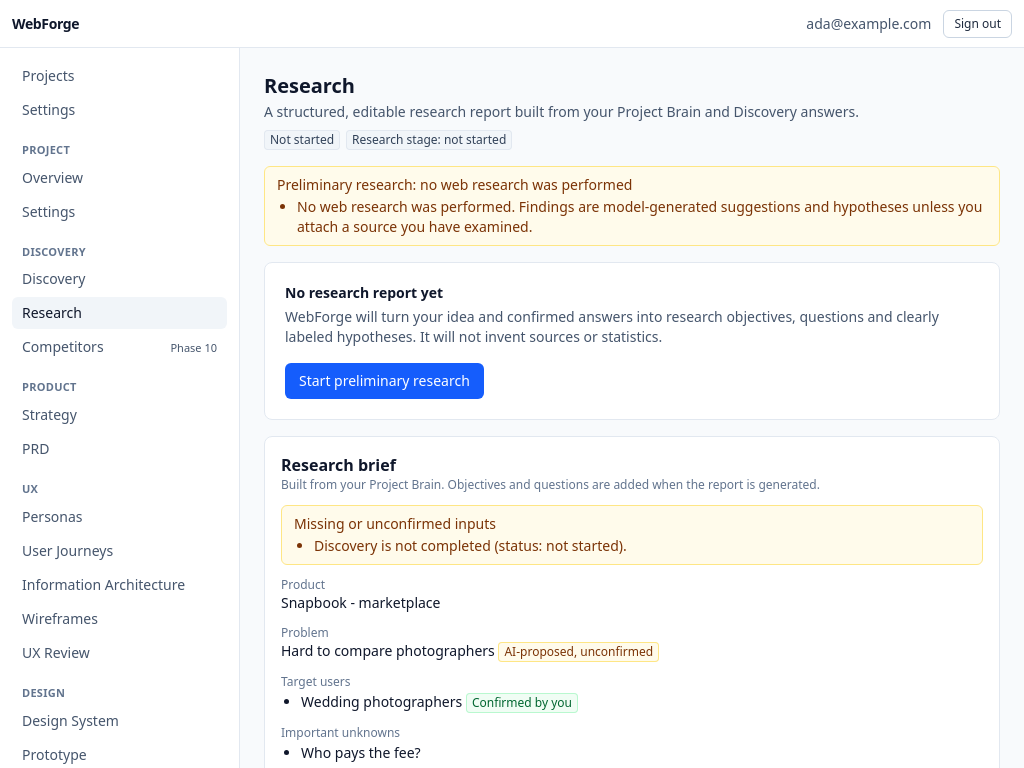
Scenario: empty and failure states › explains an unconfigured provider and does not retry on its own (503)
Click the button "Start preliminary research" at (384, 381), box [285,363,484,399]
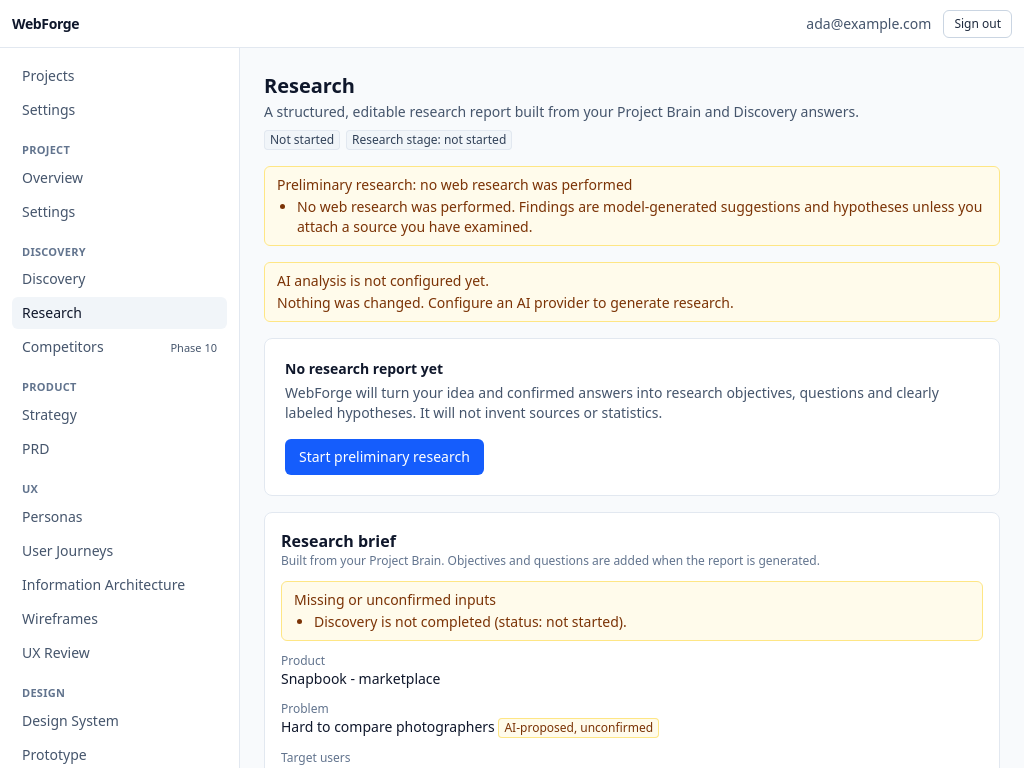
Expected: the heading "No research report yet" is shown, [285,359,443,378]
Now the text "AI analysis is not configured yet." is shown, box [277,271,489,290]
